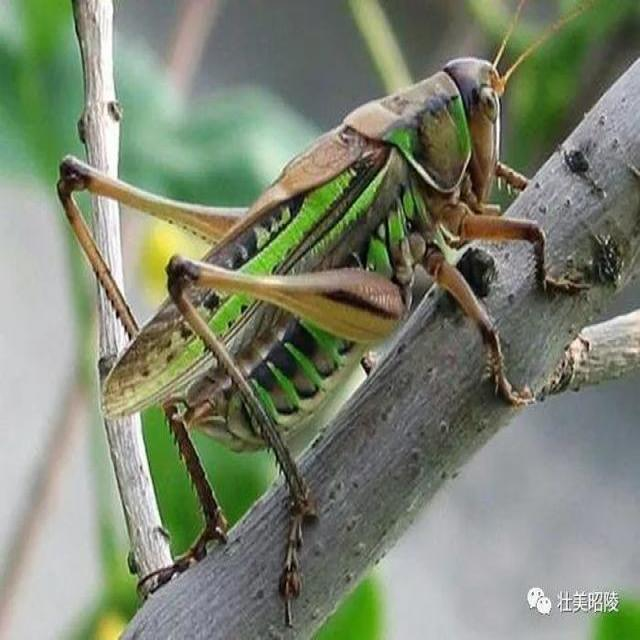ZhaMeng: (46, 38, 555, 512)
